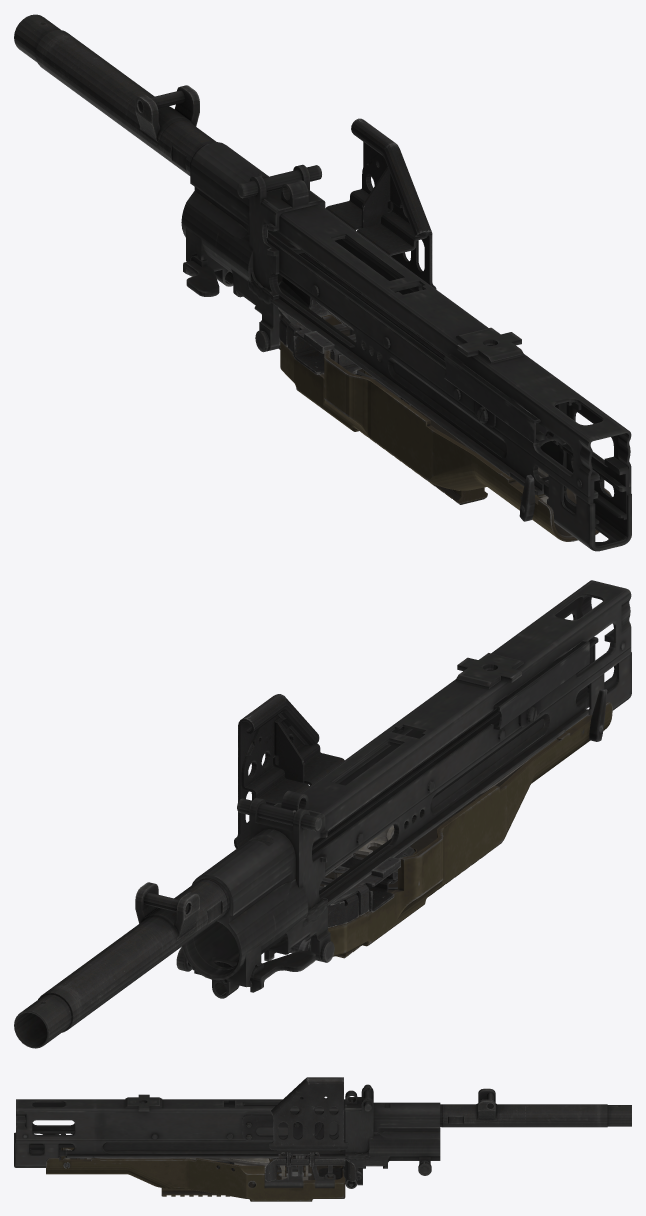
3 renders of one model, top to bottom at view 1: azimuth 30°, elevation 25°; view 2: azimuth 150°, elevation 25°; view 3: azimuth 270°, elevation 25°, orthographic. The views are drawn at different scales.
Visible parts, largest first — view 1: TW_661cec09b2c6356b4d0c7a36_PZ_Import; view 2: TW_661cec09b2c6356b4d0c7a36_PZ_Import; view 3: TW_661cec09b2c6356b4d0c7a36_PZ_Import.
Boxes of the visible parts, bbox=[...] form: TW_661cec09b2c6356b4d0c7a36_PZ_Import: bbox=[14, 14, 631, 551]; TW_661cec09b2c6356b4d0c7a36_PZ_Import: bbox=[14, 580, 631, 1048]; TW_661cec09b2c6356b4d0c7a36_PZ_Import: bbox=[14, 1077, 631, 1201].
Size of the model in its own units: 0.0507 by 0.3955 by 0.0922.
1 material, 1 textured.
